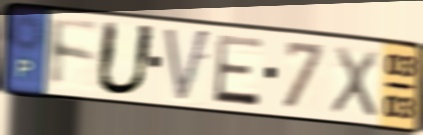7: (281, 39, 326, 113)
E: (211, 32, 266, 109)
F: (48, 14, 103, 91)
U: (92, 18, 159, 99)
V: (161, 25, 214, 107)
X: (328, 42, 380, 121)
